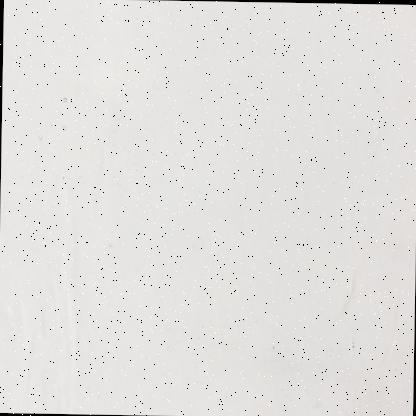Nocrack: (3, 0, 415, 409)
